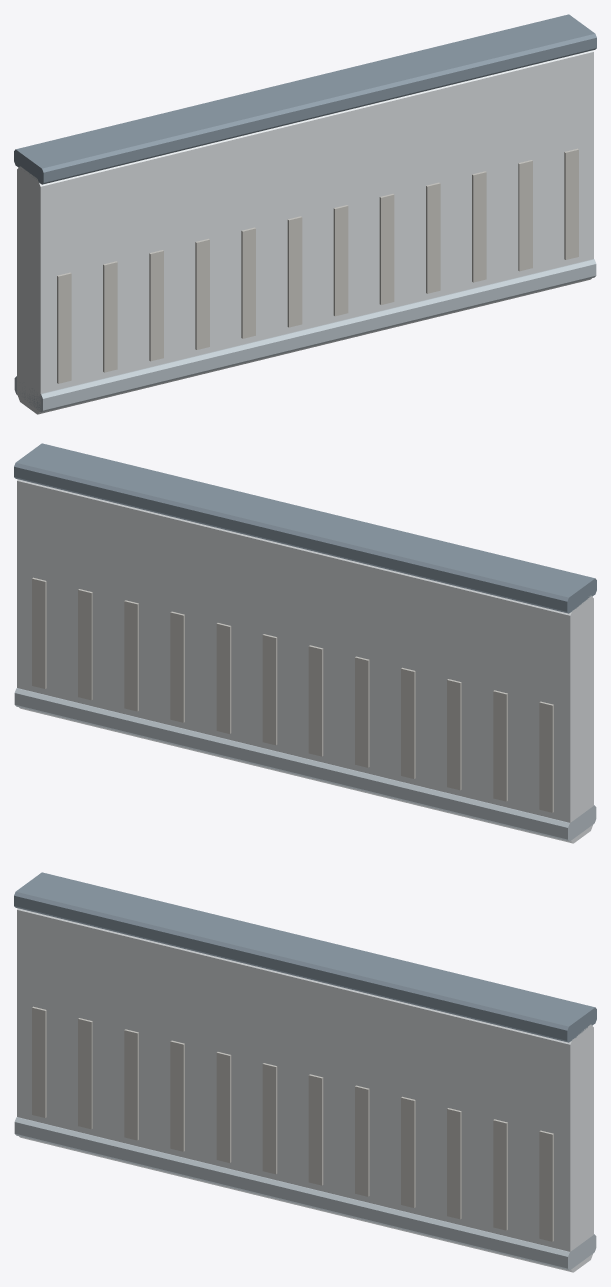
File: wall_restaurant_bar.glb
3 renders of one model, top to bottom at view 1: azimuth 30°, elevation 25°; view 2: azimuth 150°, elevation 25°; view 3: azimuth 330°, elevation 25°, orthographic.
Visible parts, largest first — view 1: Part_001, Part_002, Part_003, Part_015, Part_017, Part_019, Part_005, Part_009, Part_025, Part_007, Part_011, Part_013 (+3 smaller); view 2: Part_001, Part_002, Part_003, Part_014, Part_016, Part_018, Part_004, Part_008, Part_024, Part_006, Part_010, Part_012 (+3 smaller); view 3: Part_001, Part_002, Part_003, Part_017, Part_015, Part_013, Part_007, Part_023, Part_027, Part_005, Part_019, Part_021 (+3 smaller).
Part boxes in pixels (left/top/right/bottom): Part_001: left=17, top=50, right=593, bottom=414; Part_002: left=14, top=14, right=596, bottom=184; Part_003: left=14, top=259, right=596, bottom=412; Part_015: left=287, top=216, right=302, bottom=327; Part_017: left=333, top=205, right=348, bottom=316; Part_019: left=379, top=194, right=394, bottom=304; Part_005: left=57, top=272, right=71, bottom=383; Part_009: left=149, top=250, right=163, bottom=361; Part_025: left=518, top=160, right=532, bottom=271; Part_007: left=103, top=261, right=117, bottom=372; Part_011: left=195, top=238, right=209, bottom=349; Part_013: left=241, top=227, right=255, bottom=338; Part_001: left=17, top=479, right=593, bottom=843; Part_002: left=14, top=443, right=596, bottom=613; Part_003: left=14, top=688, right=596, bottom=841; Part_014: left=308, top=645, right=323, bottom=756; Part_016: left=262, top=634, right=277, bottom=745; Part_018: left=216, top=623, right=231, bottom=733; Part_004: left=539, top=701, right=553, bottom=812; Part_008: left=447, top=679, right=461, bottom=790; Part_024: left=78, top=589, right=92, bottom=700; Part_006: left=493, top=690, right=507, bottom=801; Part_010: left=401, top=667, right=415, bottom=778; Part_012: left=355, top=656, right=369, bottom=767; Part_001: left=17, top=908, right=593, bottom=1272; Part_002: left=14, top=872, right=596, bottom=1042; Part_003: left=14, top=1117, right=596, bottom=1270; Part_017: left=308, top=1074, right=323, bottom=1185; Part_015: left=262, top=1063, right=277, bottom=1174; Part_013: left=216, top=1052, right=231, bottom=1162; Part_007: left=78, top=1018, right=92, bottom=1129; Part_023: left=447, top=1108, right=461, bottom=1219; Part_027: left=539, top=1130, right=553, bottom=1241; Part_005: left=32, top=1006, right=46, bottom=1117; Part_019: left=355, top=1085, right=369, bottom=1196; Part_021: left=401, top=1096, right=415, bottom=1207.
Bounding box in the file's own units: 2.7 × 1.16 × 0.25.
